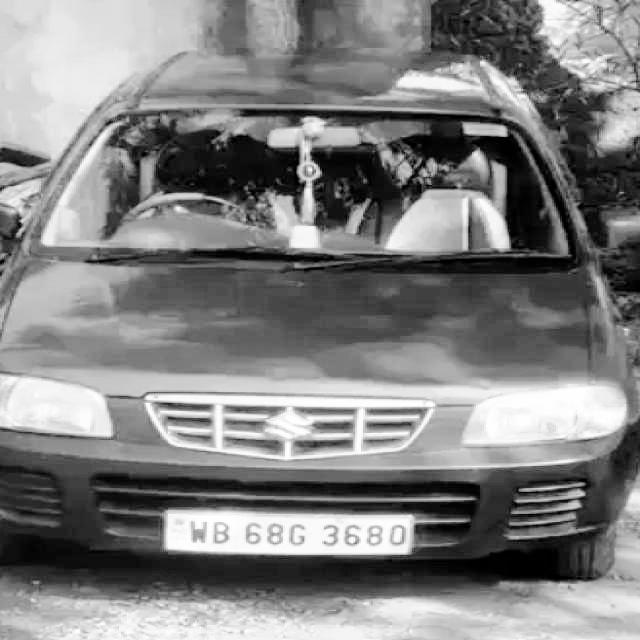Car: (0, 57, 640, 616)
